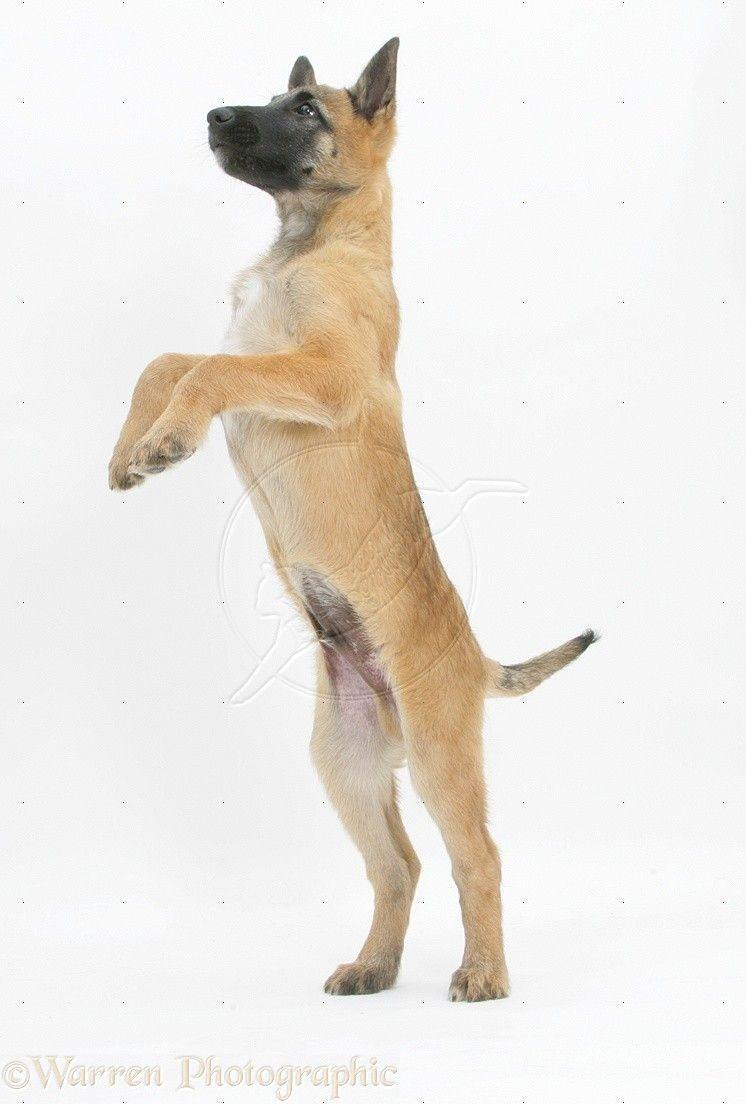puppy-dog: (108, 33, 602, 1008)
